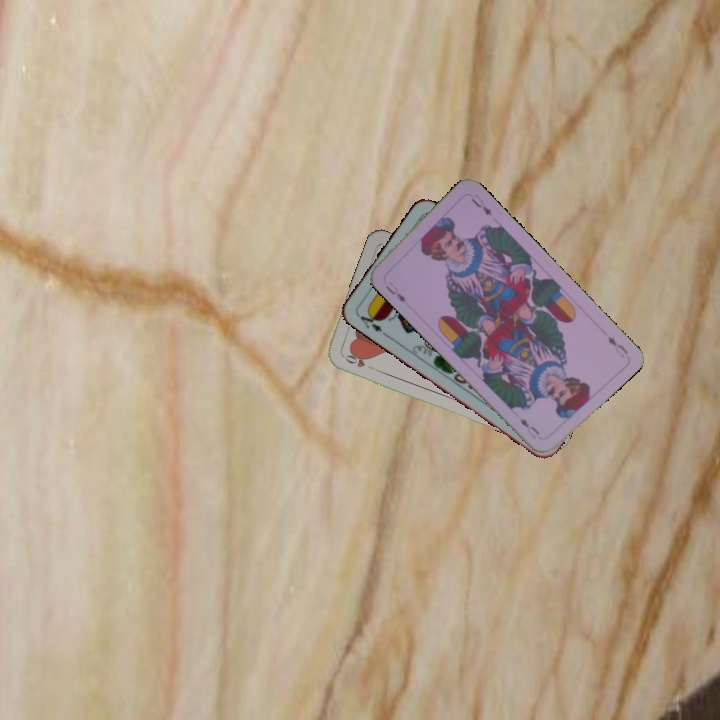EA: (354, 307, 385, 335)
EU: (381, 278, 409, 305), (604, 332, 630, 360)
HO: (339, 351, 377, 372)
